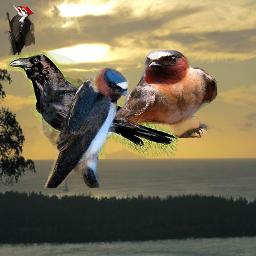Crow: (6, 52, 178, 157)
Swallow: (40, 66, 129, 188), (111, 50, 217, 138)
Woodpecker: (4, 3, 35, 55)
